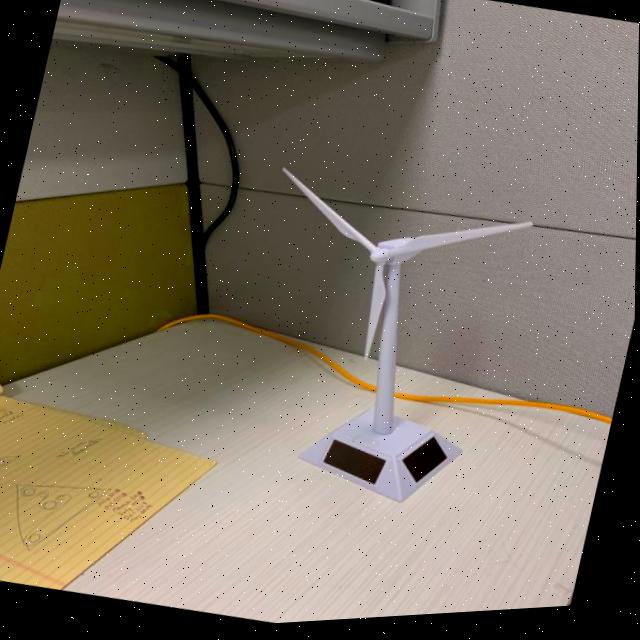solid-blade: (283, 171, 377, 256), (387, 228, 533, 262), (366, 267, 387, 361)
